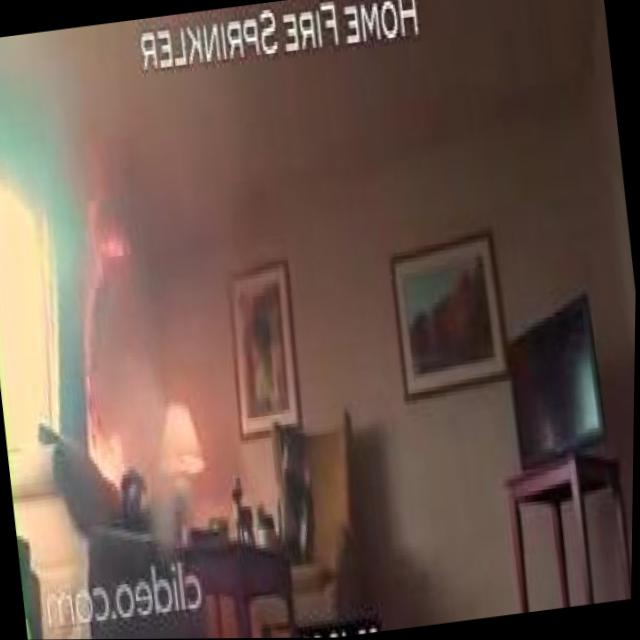fire: (63, 182, 146, 384), (80, 394, 134, 496)
